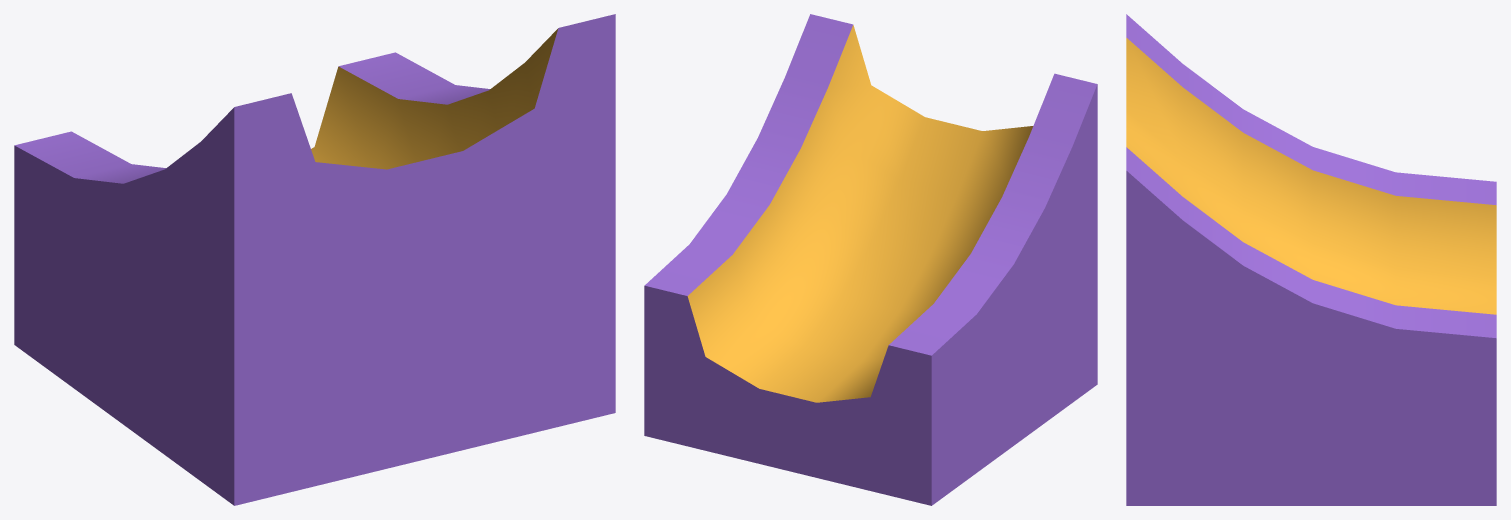
File: ramp-start-solid-c.glb
3 views of the same model, side by side, from view 1: azimuth 30°, elevation 25°; view 2: azimuth 150°, elevation 25°; view 3: azimuth 270°, elevation 25° (orthographic). The views are drawn at different scales.
Visible parts, largest first — view 1: ramp-start-solid-c; view 2: ramp-start-solid-c; view 3: ramp-start-solid-c.
Boxes of the visible parts, bbox=[...] form: ramp-start-solid-c: bbox=[14, 14, 615, 505]; ramp-start-solid-c: bbox=[644, 14, 1097, 505]; ramp-start-solid-c: bbox=[1126, 14, 1496, 505].
Size of the model in its own units: 1 by 1 by 1.
1 material, 1 textured.
